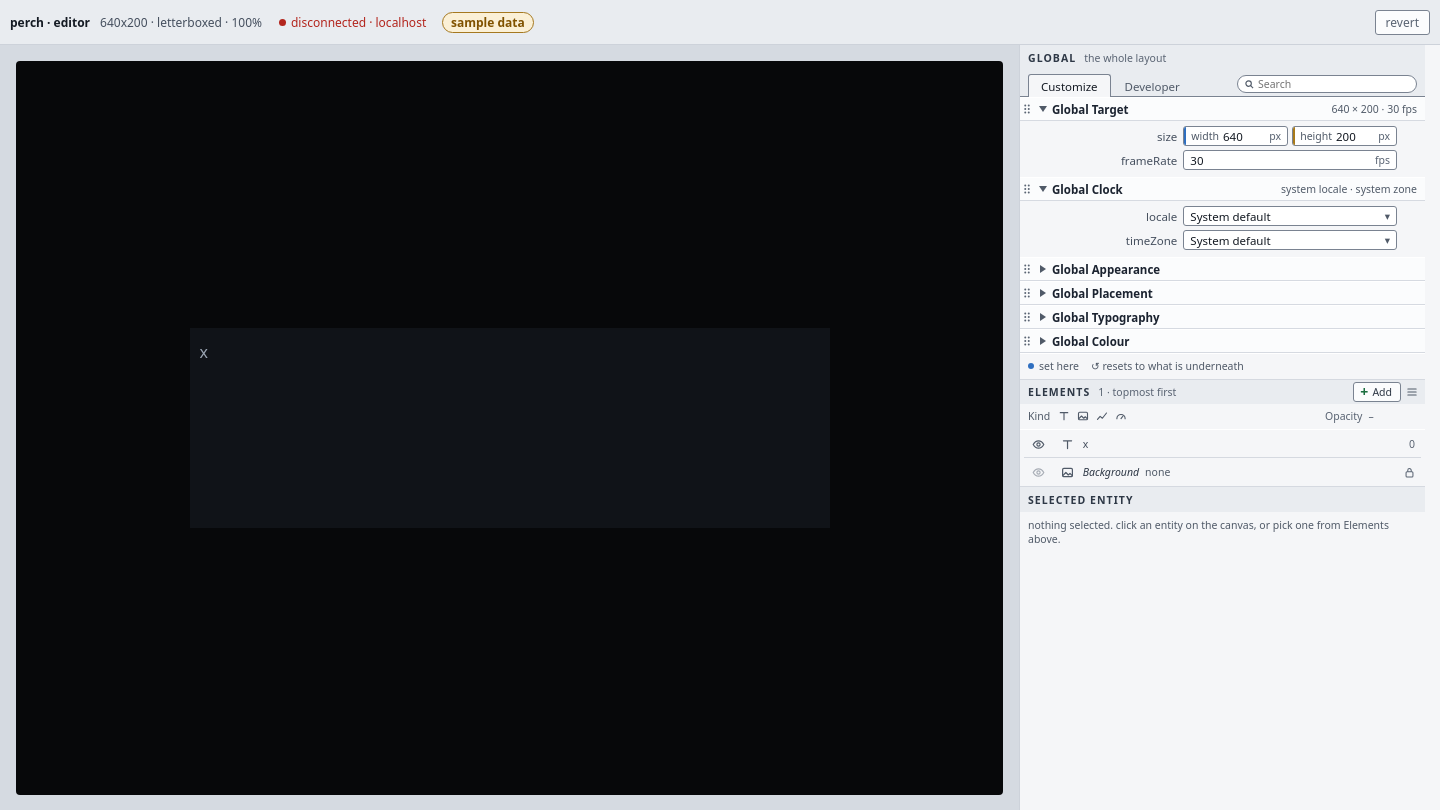
Test: the header in the desktop app, with a host › keeps the fit, the sample-data badge, the unsaved mark and revert
Click the button "x 0".
click(1067, 444)  # box [1052,430,1421,458]
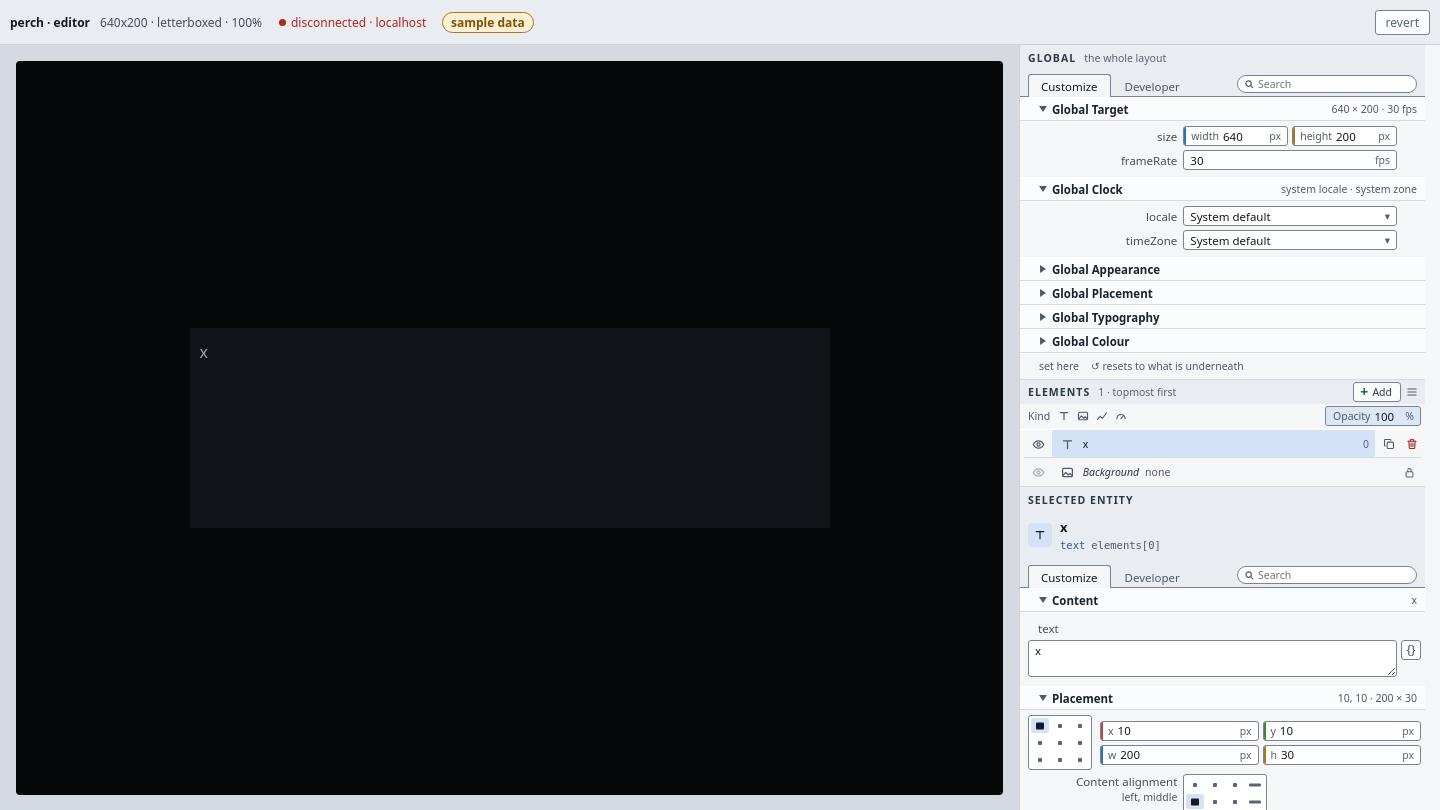
Replace the text in the number field labelled "w" with "150" at (1179, 755), box [1118,746,1240,764]
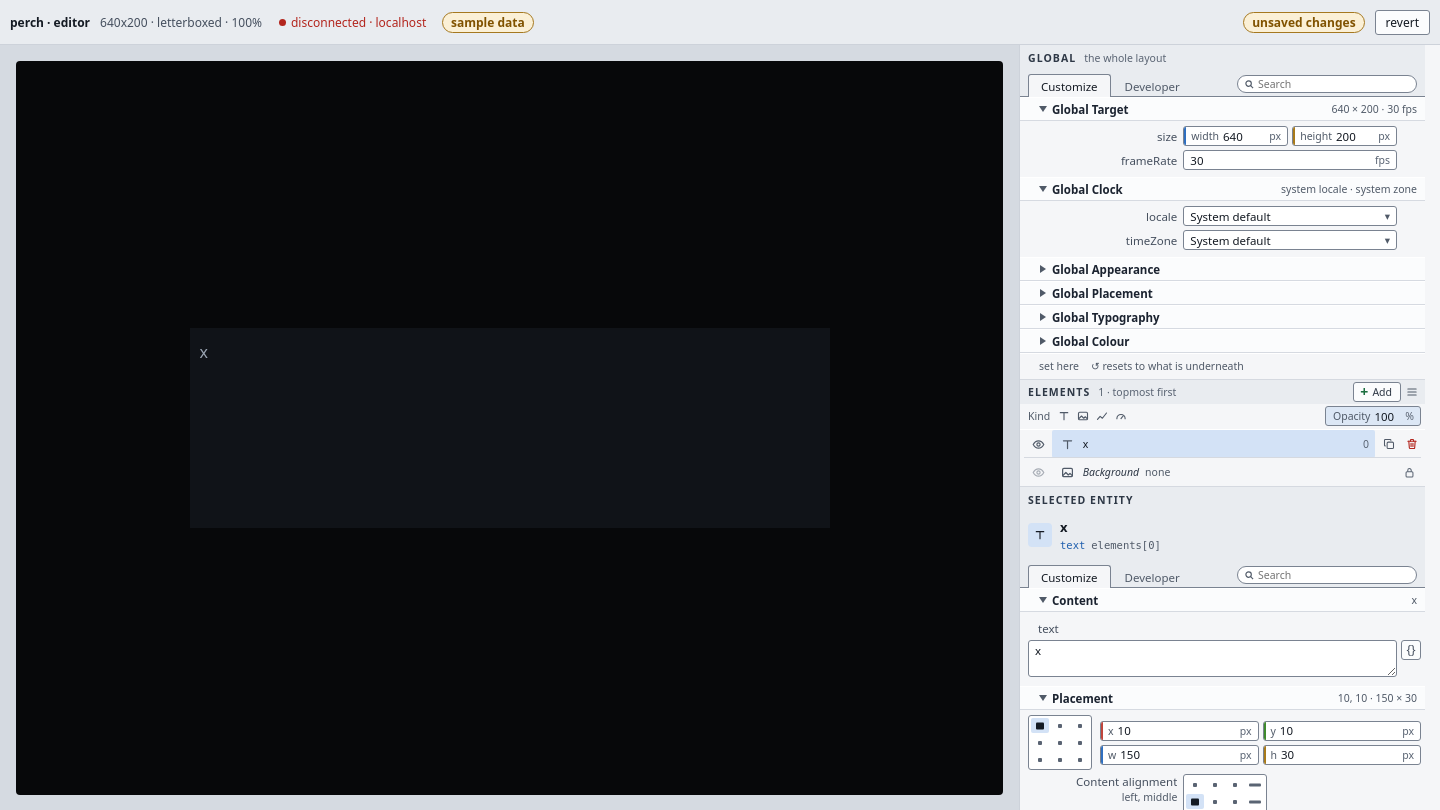
Expected: the text "640x200 · letterboxed · 100%" is shown, [100,14,262,30]
Result: the text "unsaved changes" is shown at [1243,12,1365,32]
Result: the button "revert" is enabled at [1375,10,1430,34]
